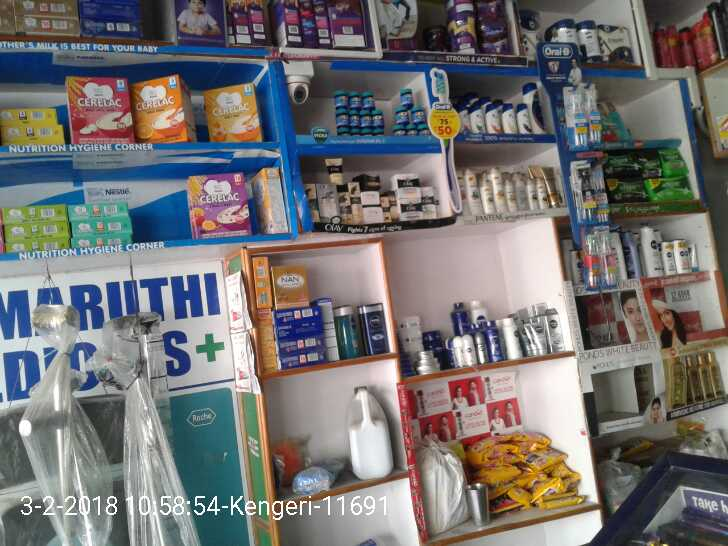beauty: (297, 161, 445, 224), (513, 165, 549, 207), (464, 159, 487, 215), (485, 166, 511, 211), (506, 105, 535, 140), (492, 98, 515, 137), (467, 102, 486, 132), (485, 103, 499, 129)
pharmacy: (322, 81, 387, 137), (570, 159, 609, 218), (583, 223, 618, 287), (560, 81, 587, 149), (640, 174, 703, 203), (394, 85, 430, 133), (588, 83, 610, 149)
